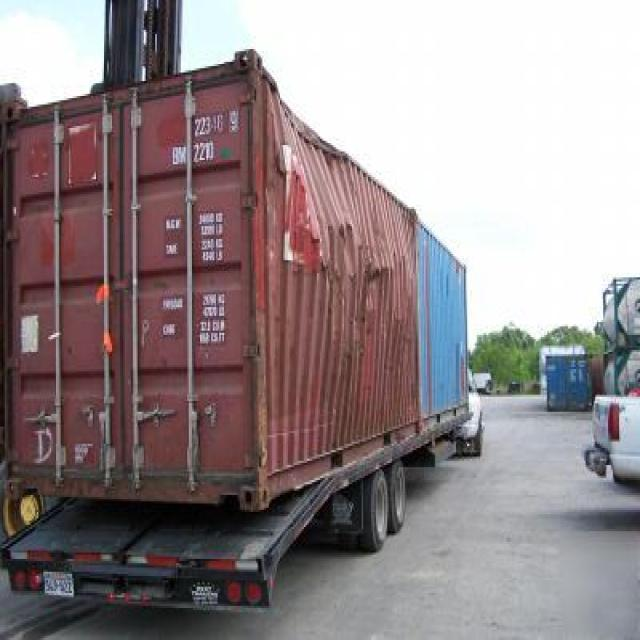dent: (265, 82, 407, 418), (277, 89, 351, 160)
